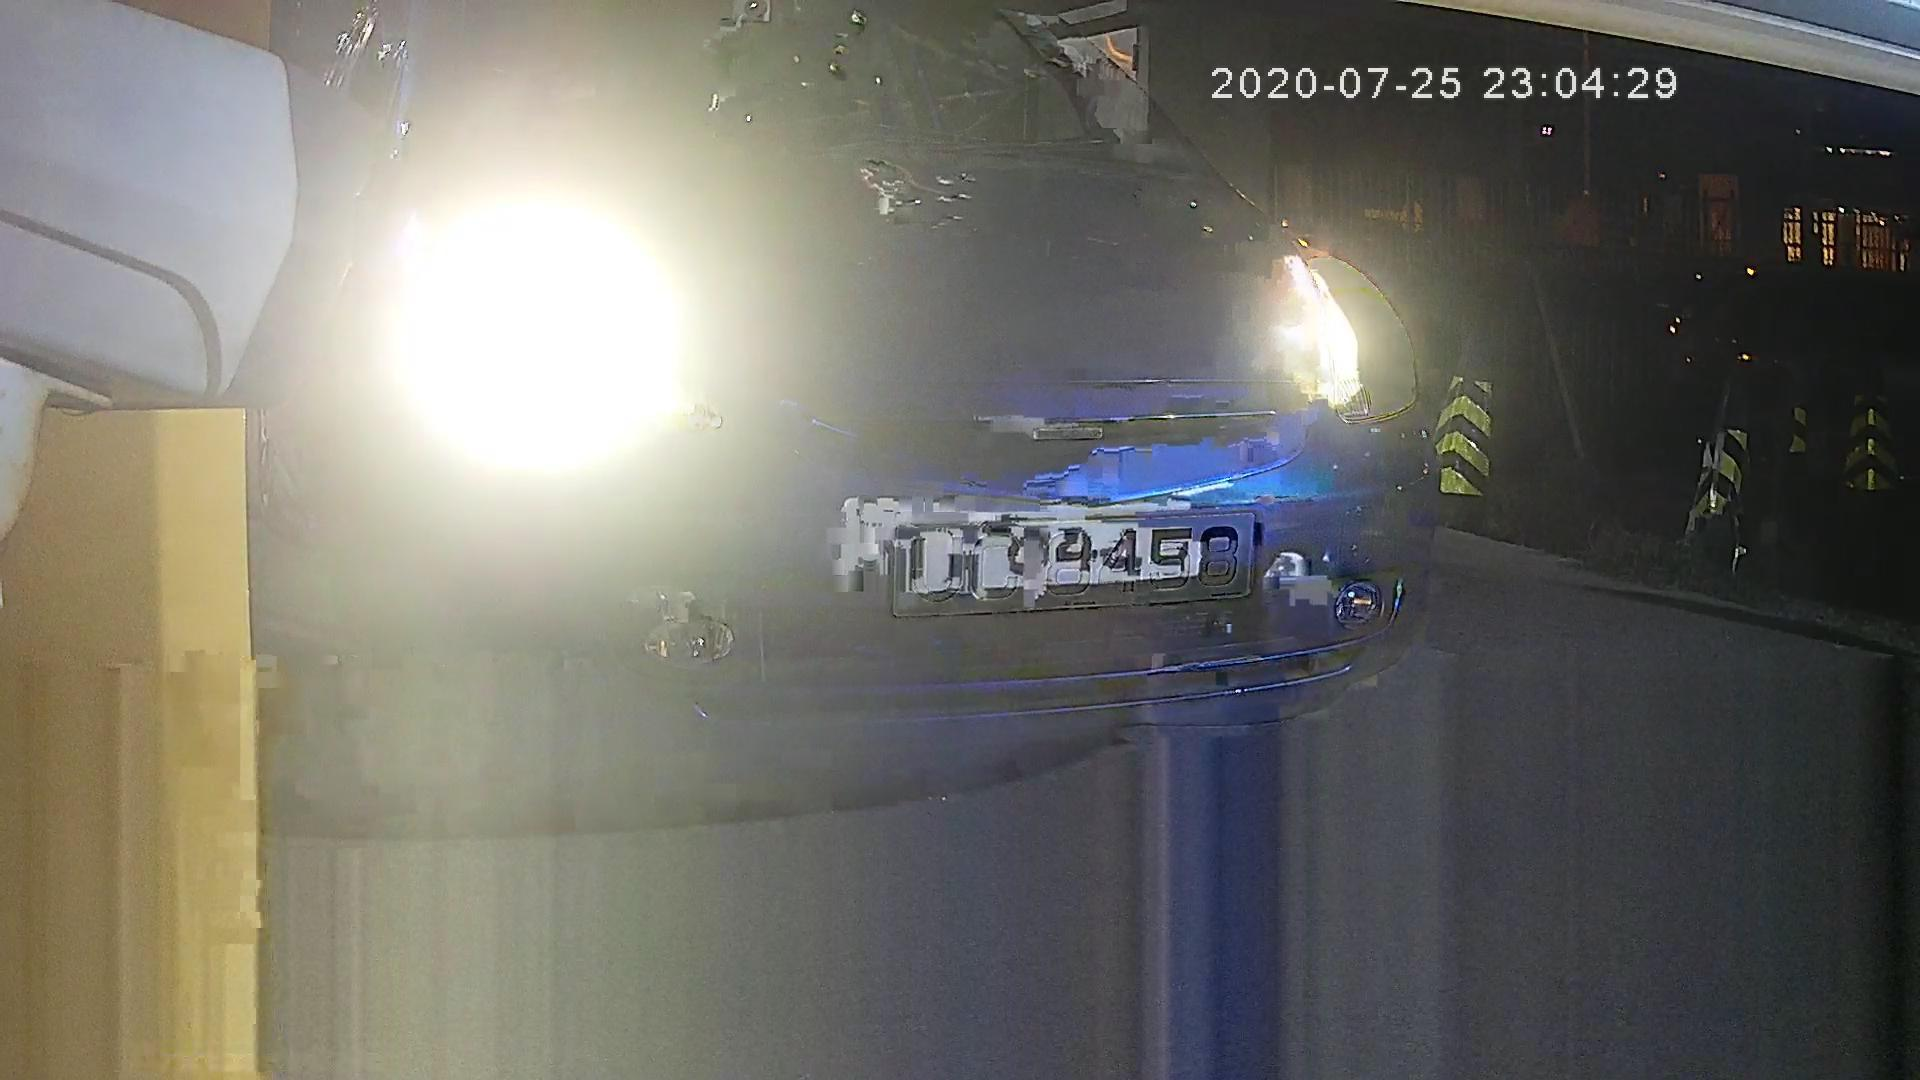privatecar: (225, 3, 1448, 808)
